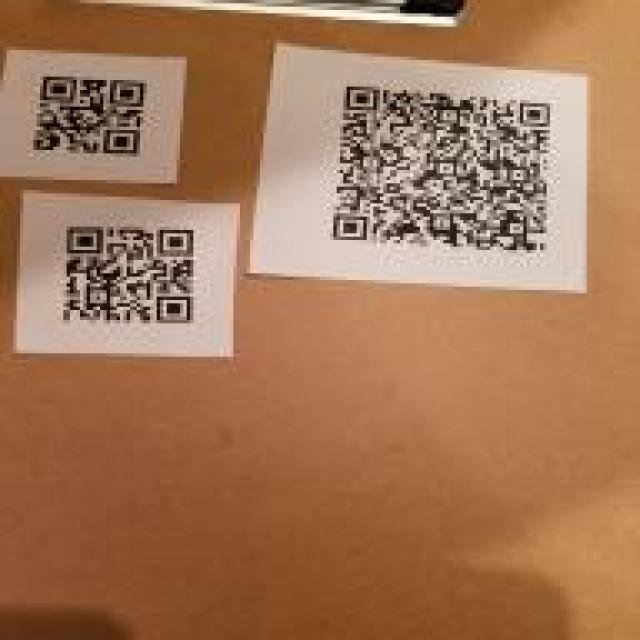qr_code: (333, 86, 550, 252), (63, 227, 194, 323), (33, 76, 145, 155)
